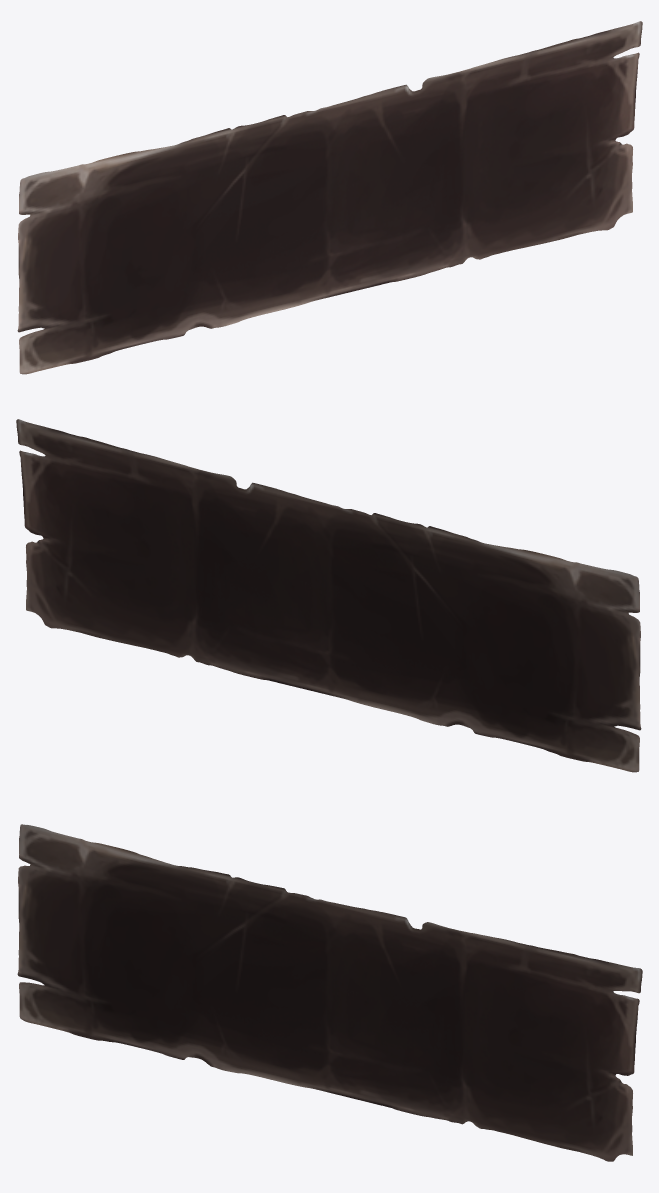
Rendered from Potion Info.FBX.
The picture shows the model from 3 angles, top to bottom: view 1: azimuth 30°, elevation 25°; view 2: azimuth 150°, elevation 25°; view 3: azimuth 330°, elevation 25°; orthographic projection.
Parts seen in each view (by area): view 1: Potion Info; view 2: Potion Info; view 3: Potion Info.
Part boxes in pixels (x1,y1,x2,y2): Potion Info: [17, 21, 642, 374]; Potion Info: [16, 419, 641, 772]; Potion Info: [17, 824, 642, 1161].
Bounding box in the file's own units: 154 × 2.19e-06 × 50.04.
1 material, 1 textured.
